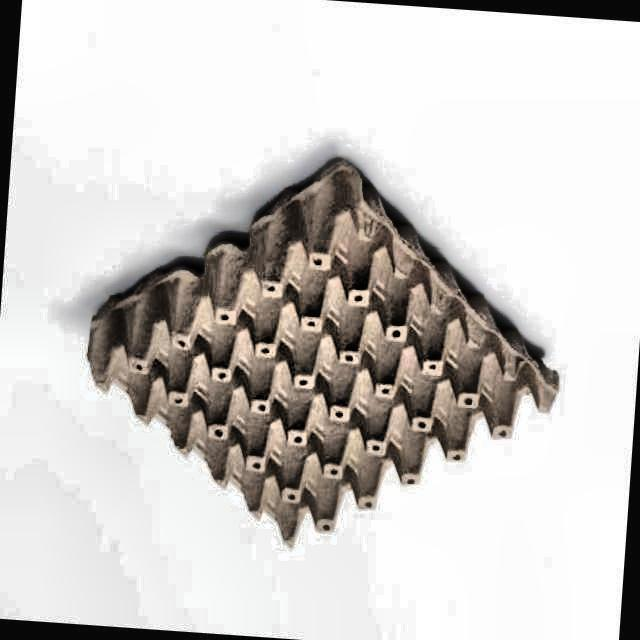cardboard: (85, 156, 561, 546)
